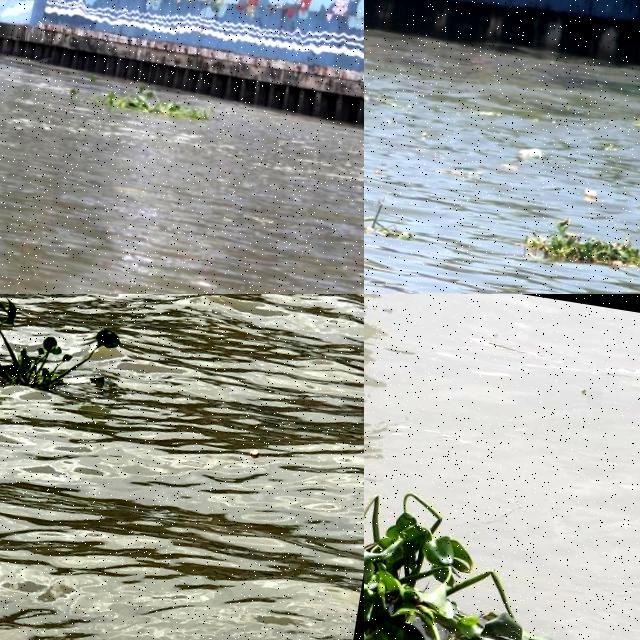water-hyacinth: (366, 462, 611, 640), (1, 295, 124, 408), (527, 213, 640, 279), (95, 73, 210, 125)
